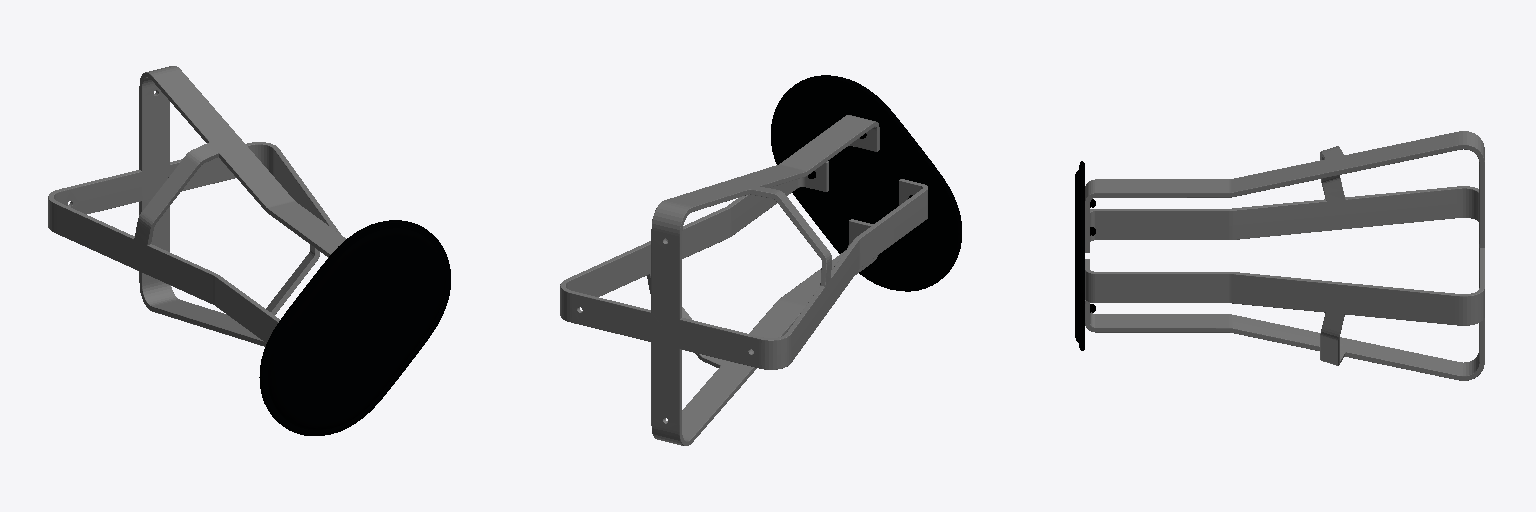
Rendered from Miramondo_Hot_Shot_Stool.obj.
The picture shows the model from 3 angles: view 1: azimuth 30°, elevation 25°; view 2: azimuth 150°, elevation 25°; view 3: azimuth 270°, elevation 25°; orthographic projection.
Visible parts, largest first — view 1: Miramondo_Hot_Shot_Stool; view 2: Miramondo_Hot_Shot_Stool; view 3: Miramondo_Hot_Shot_Stool.
Part boxes in pixels (x1,y1,x2,y2): Miramondo_Hot_Shot_Stool: (48, 66, 450, 435); Miramondo_Hot_Shot_Stool: (560, 75, 961, 445); Miramondo_Hot_Shot_Stool: (1075, 131, 1484, 380).
Size of the model in its own units: 47.73 by 47.73 by 74.99.